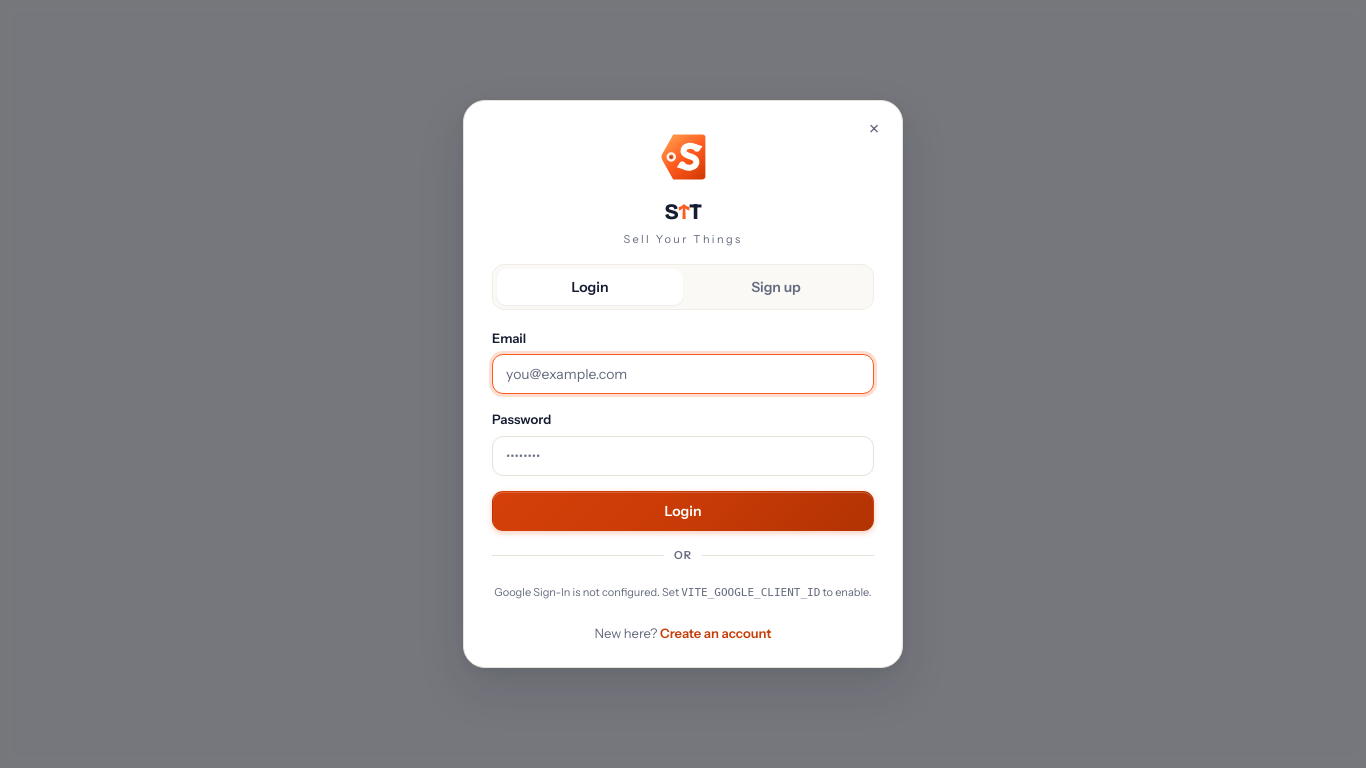
Test: AuthModal › switching mode via the tab updates the form and store state
Check: the text "Full name" is not shown
Click the tab "Sign up".
click(776, 287)  # box [683,269,869,305]
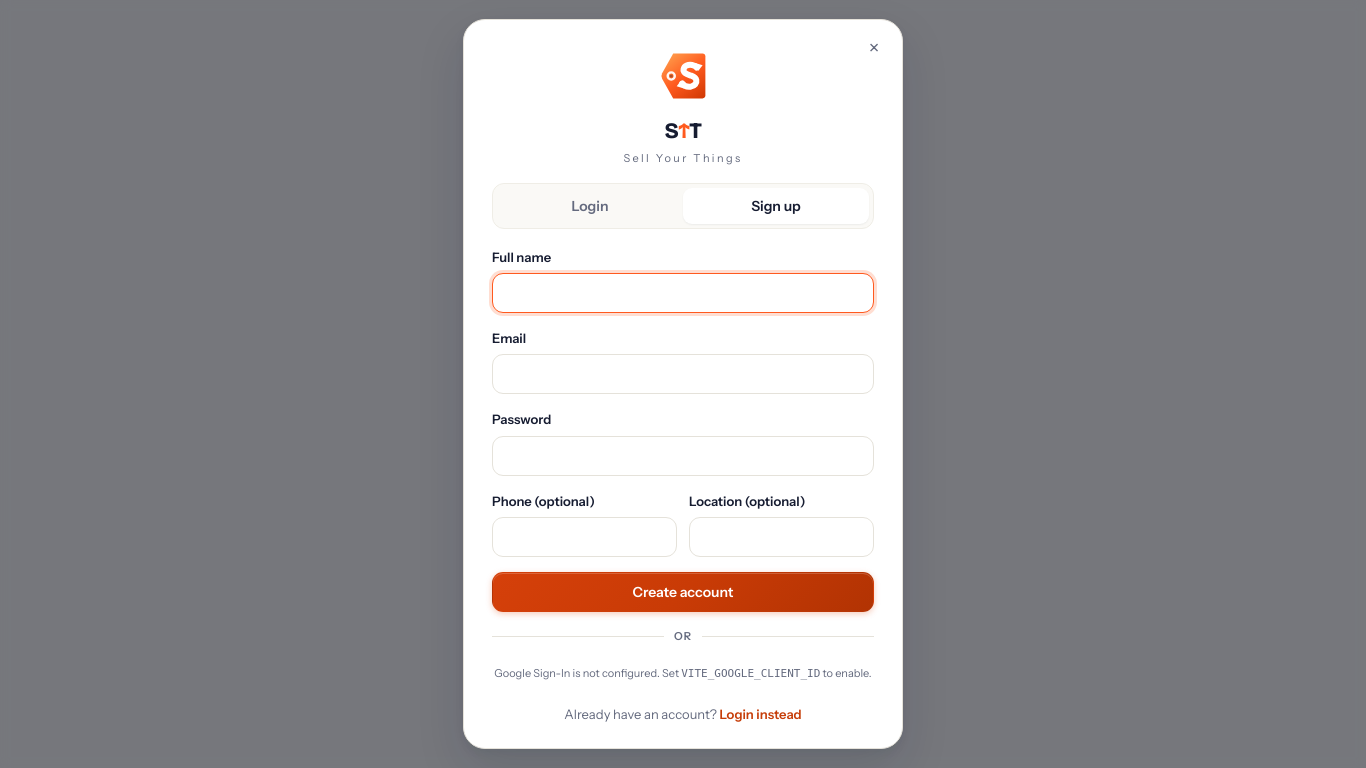
Check: the text "Full name" is shown, box [492,249,551,265]
Check: the button "Create account" is shown, box [492,572,874,612]
